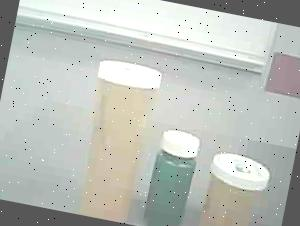Bottle A: (64, 51, 164, 224)
Bottle B: (193, 146, 272, 226)
Bottle C: (139, 125, 205, 226)
